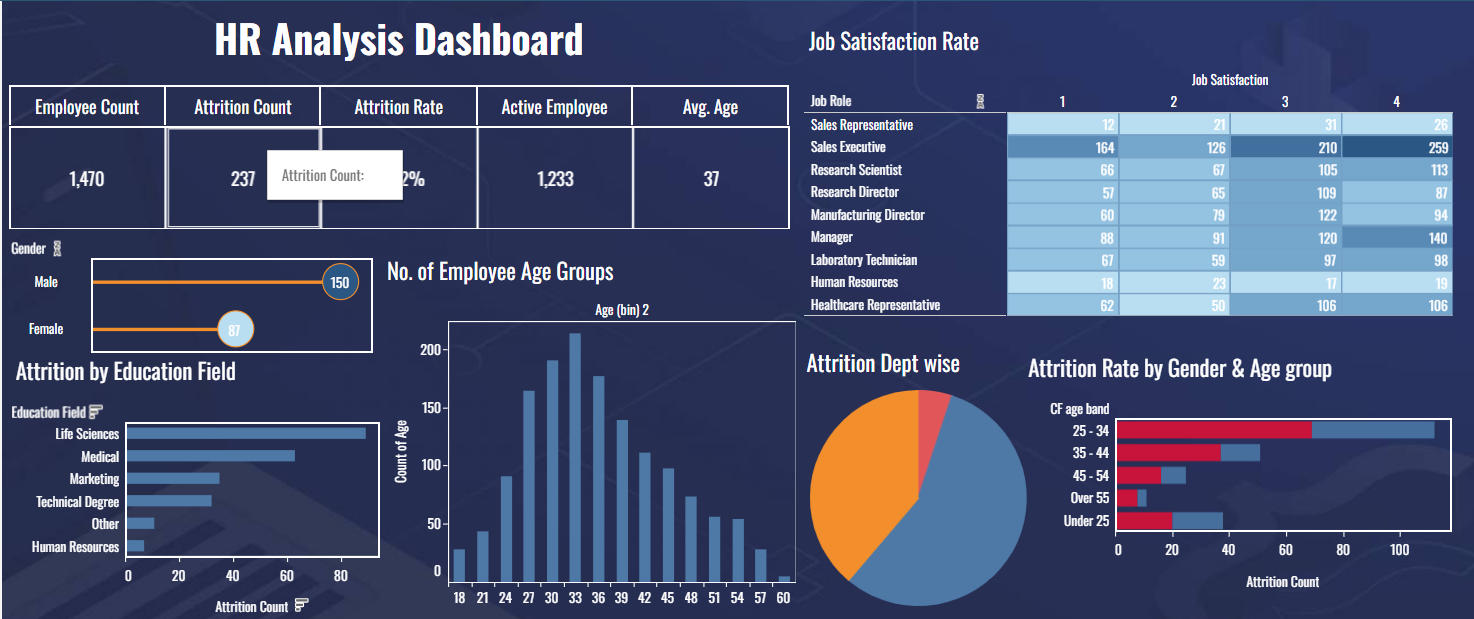

Layout of this report page (visuals, bound fields, positions):
{"tool":"tableau","page":{"name":"Dashboard 1","canvas":[1310,550],"ordinal":0},"visuals":[{"type":"text","box":[13,12,688,41]},{"type":"worksheet","title":"Job Satisfaction Rate","mark":"Square","rows":["Job Role"],"cols":["Job Satisfaction"],"box":[713,14,578,280]},{"type":"worksheet","title":"KPI","mark":"Automatic","box":[5,74,695,129]},{"type":"worksheet","title":"No. of Employee Age Groups","mark":"Automatic","rows":["Age"],"cols":["Age (bin) 2"],"box":[338,219,368,321]},{"type":"worksheet","title":"Attrition Dept wise","mark":"Pie","box":[711,301,206,237]},{"type":"worksheet","title":"Attrition Rate by Gender & Age group","mark":"Automatic","rows":["CF_age band"],"cols":["Calculation_1055550871212099"],"box":[908,305,381,232]}]}

Visuals, with their boxes in screenshot pixels (x1, y1, x2, y2), scaled from the page's 1310x550 canvas onto the 1474x619 screenshot:
text: (x1=15, y1=14, x2=789, y2=60)
"Job Satisfaction Rate" worksheet (Square marks): (x1=802, y1=16, x2=1453, y2=331)
"KPI" worksheet: (x1=6, y1=83, x2=788, y2=228)
"No. of Employee Age Groups" worksheet: (x1=380, y1=246, x2=794, y2=608)
"Attrition Dept wise" worksheet (Pie marks): (x1=800, y1=339, x2=1032, y2=605)
"Attrition Rate by Gender & Age group" worksheet: (x1=1022, y1=343, x2=1450, y2=604)
